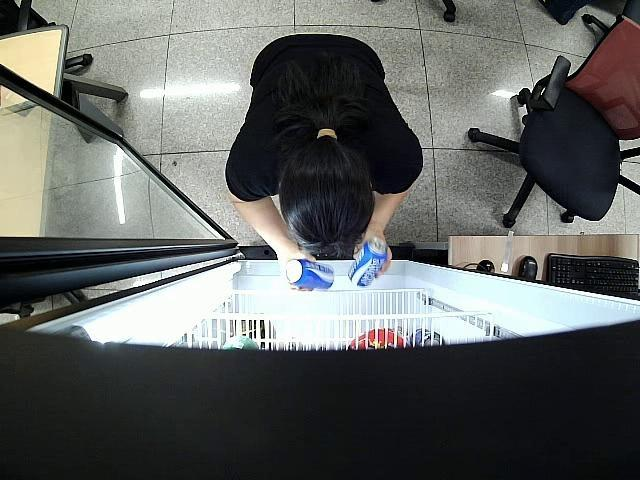13_pocariSweat: (348, 240, 388, 288), (286, 258, 334, 290)
